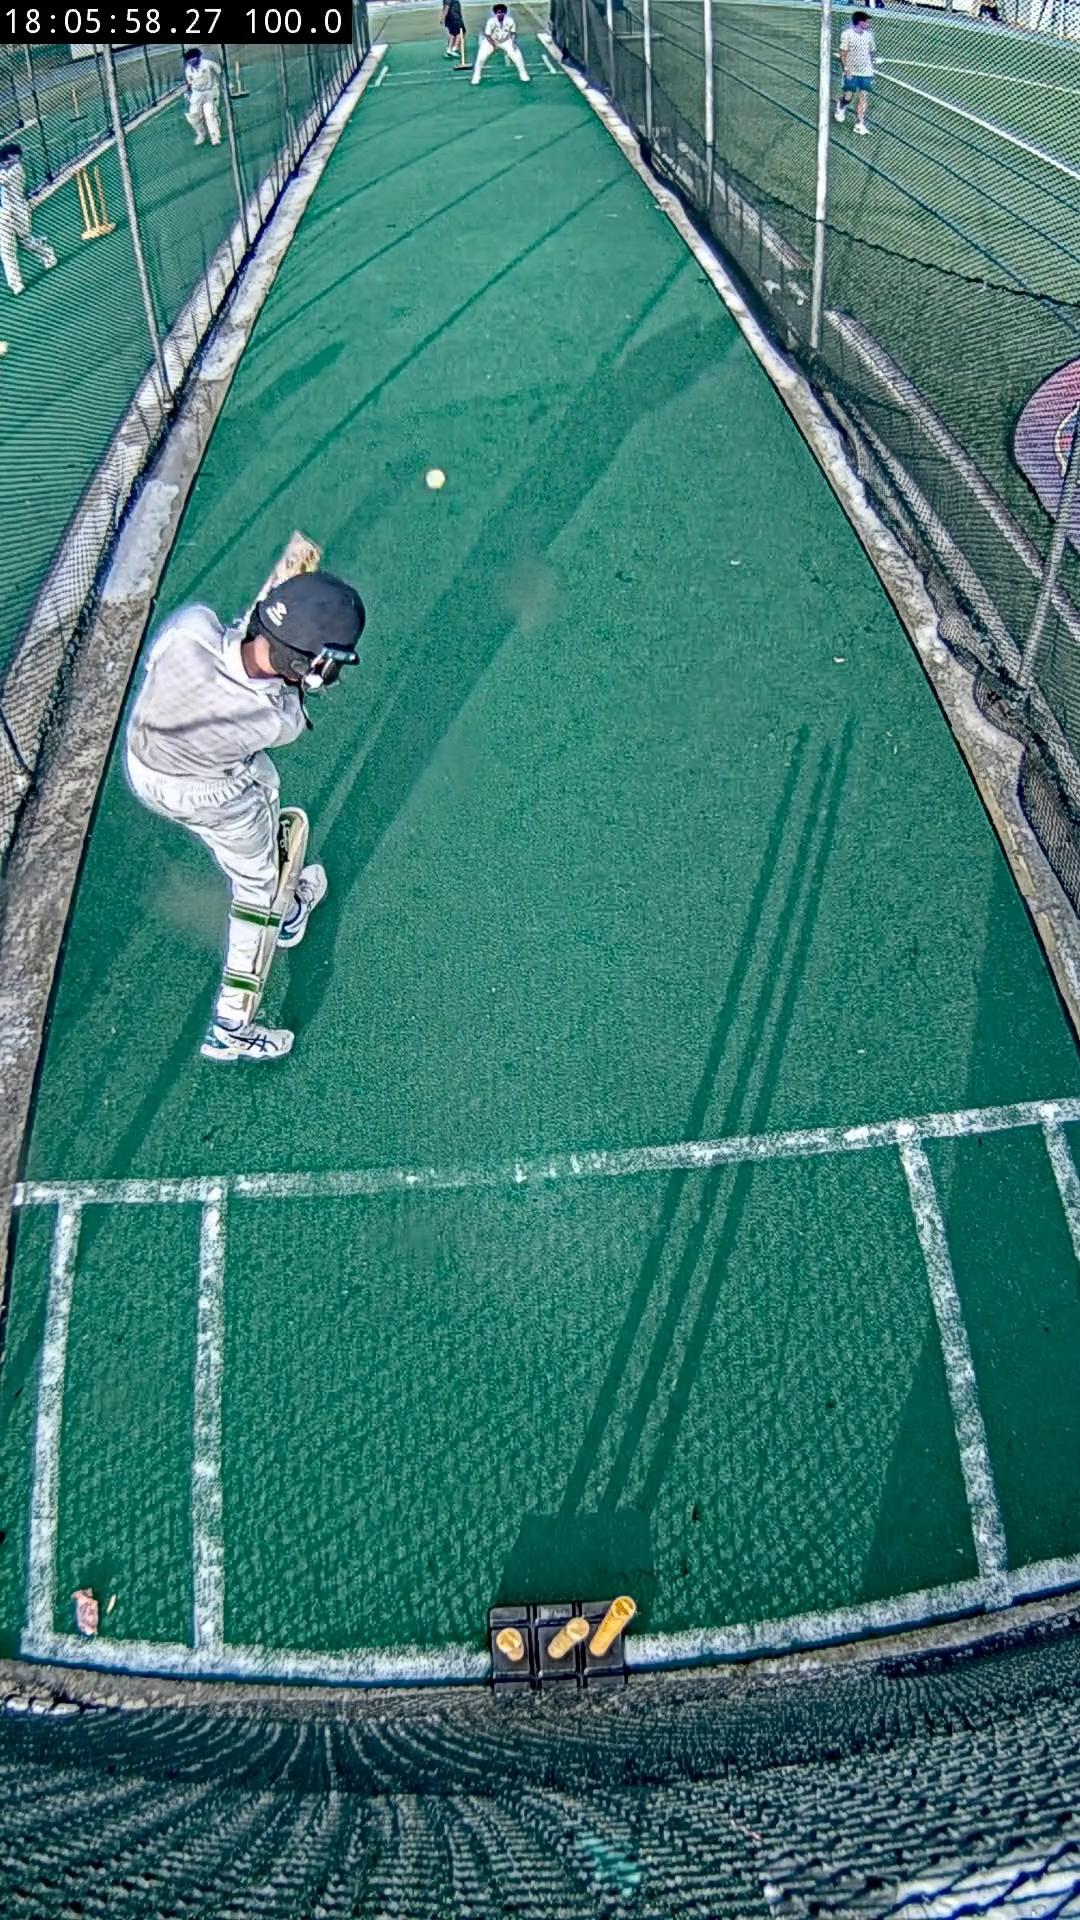ball: (423, 468, 446, 492)
bat: (255, 533, 323, 599)
helmet: (255, 570, 364, 657)
pads: (274, 806, 311, 919)
stumps: (488, 1597, 637, 1688)
